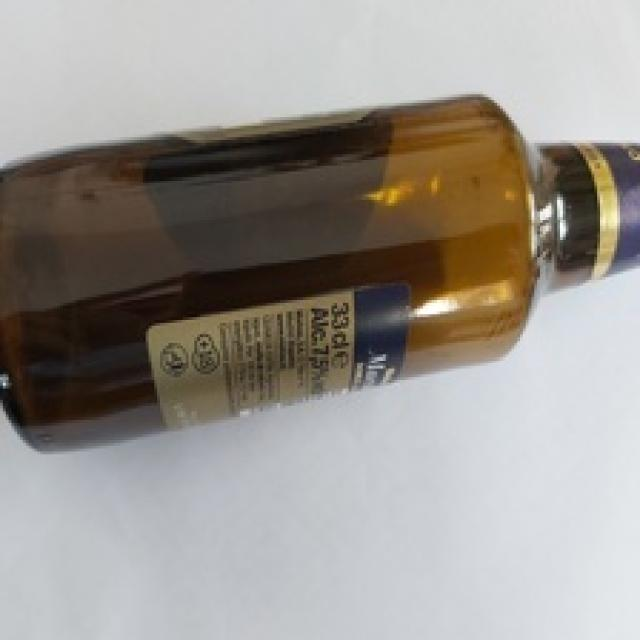Glass: (0, 90, 640, 455)
